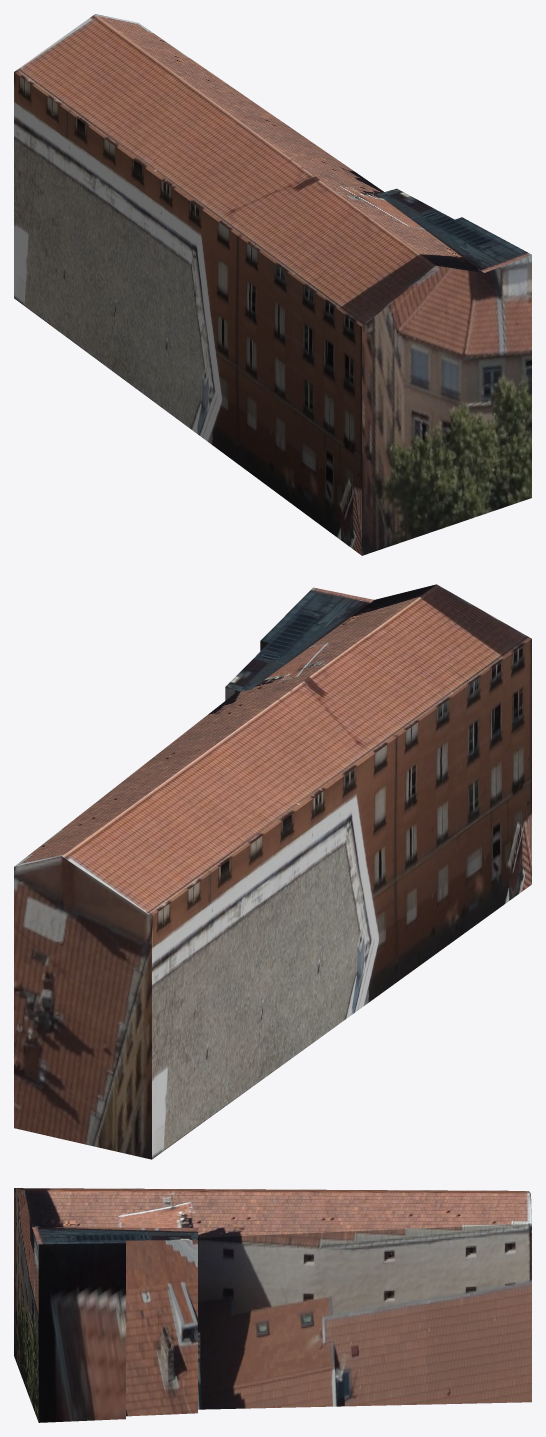
The picture shows the model from 3 angles, top to bottom: view 1: azimuth 30°, elevation 25°; view 2: azimuth 150°, elevation 25°; view 3: azimuth 270°, elevation 25°; orthographic projection. The views are drawn at different scales.
Parts seen in each view (by area): view 1: Z_UP; view 2: Z_UP; view 3: Z_UP.
Boxes of the visible parts, x1=… form: Z_UP: x1=14, y1=14, x2=531, y2=555; Z_UP: x1=14, y1=584, x2=531, y2=1159; Z_UP: x1=14, y1=1188, x2=531, y2=1422.
Bounding box in the file's own units: 11.83 × 16.04 × 38.71.
2 materials, 1 textured.
